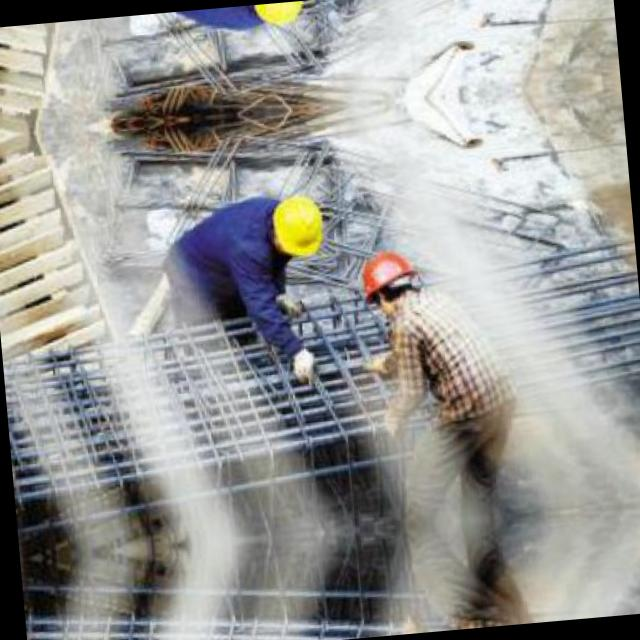helmet: (355, 245, 424, 324), (262, 187, 330, 260), (246, 0, 312, 34)
